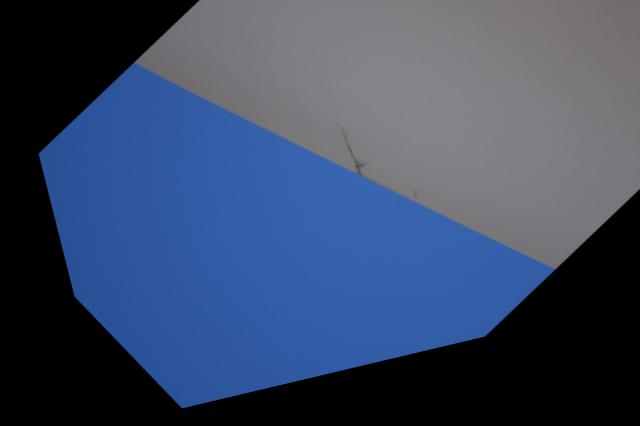damage: (311, 135, 365, 195)
